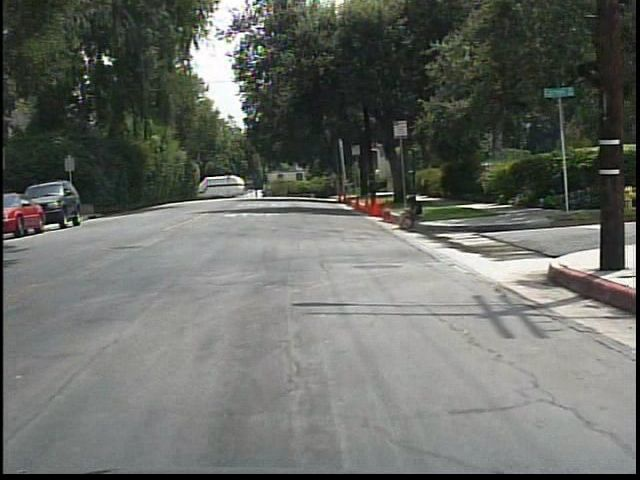person: (391, 191, 426, 236)
